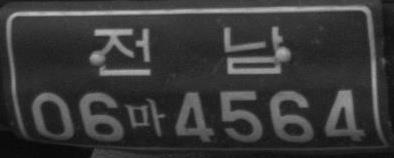0: (31, 91, 74, 140)
4: (322, 89, 365, 142), (174, 92, 215, 142)
5: (219, 90, 264, 143)
6: (78, 90, 125, 143), (268, 89, 314, 142)
마: (125, 98, 165, 137)
전남_D: (93, 25, 283, 77)
